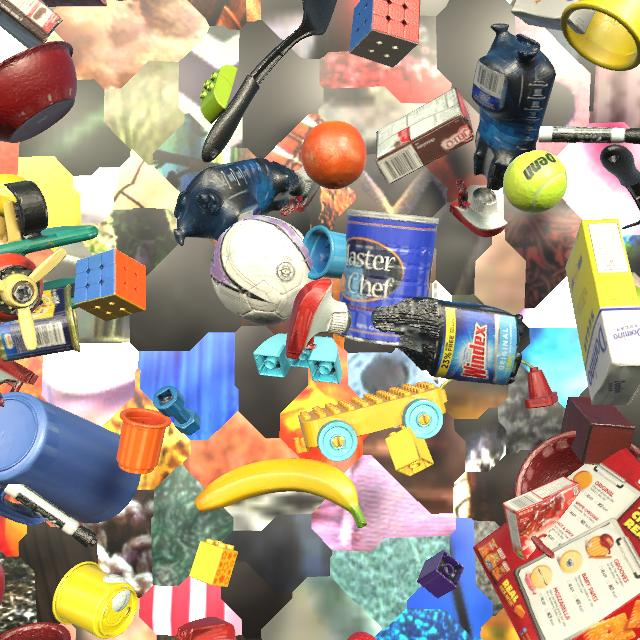ycb_002_master_chef_can: (337, 209, 439, 346)
ycb_003_cracker_box: (473, 448, 640, 640)
ycb_004_sugar_box: (565, 219, 640, 406), (511, 0, 596, 35)
ycb_008_pudding_box: (375, 87, 475, 184), (0, 0, 63, 49)
ycb_009_gelatin_box: (503, 476, 580, 561), (41, 0, 107, 7)
ycb_010_potted_meat_can: (0, 284, 80, 362)
ycb_011_banana: (194, 458, 367, 528)
ycb_012_strawberry: (347, 632, 376, 640)
ycb_013_apple: (0, 563, 5, 606)
ycb_014_lemon: (0, 174, 26, 218)
ycb_016_pear: (635, 285, 640, 305)
ycb_017_orange: (301, 121, 367, 190)
